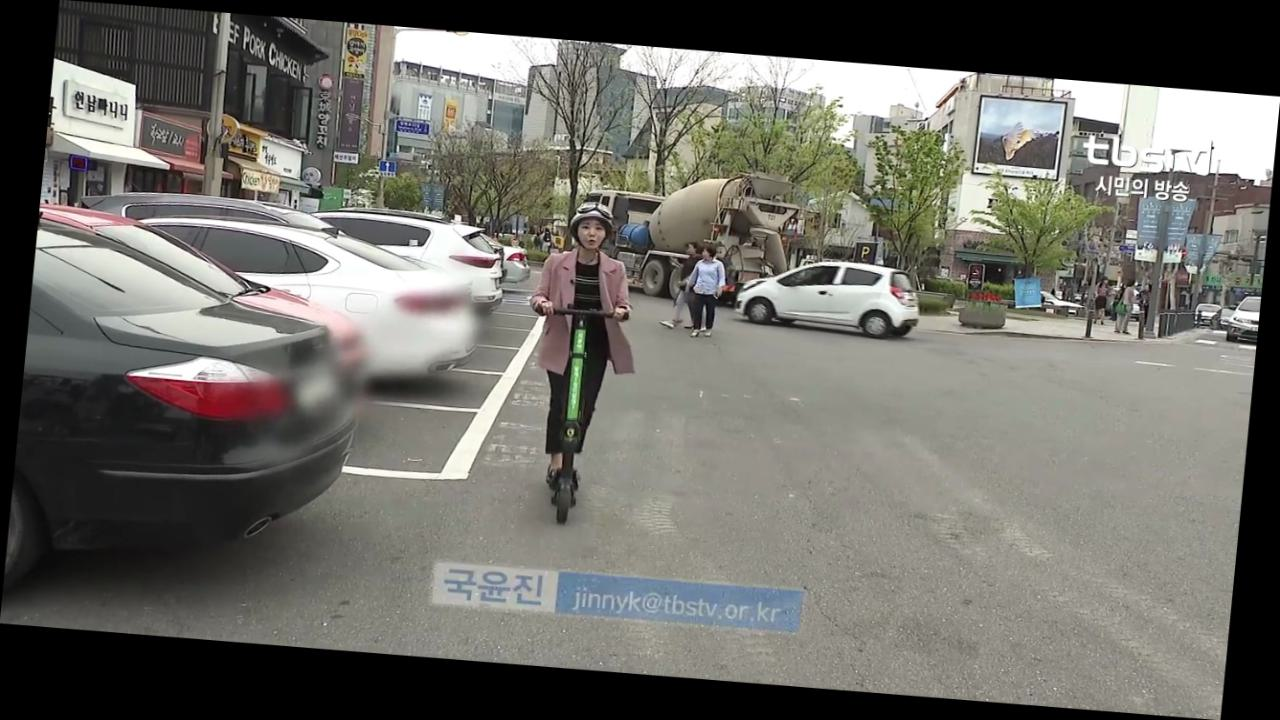helmet: (507, 197, 654, 531)
